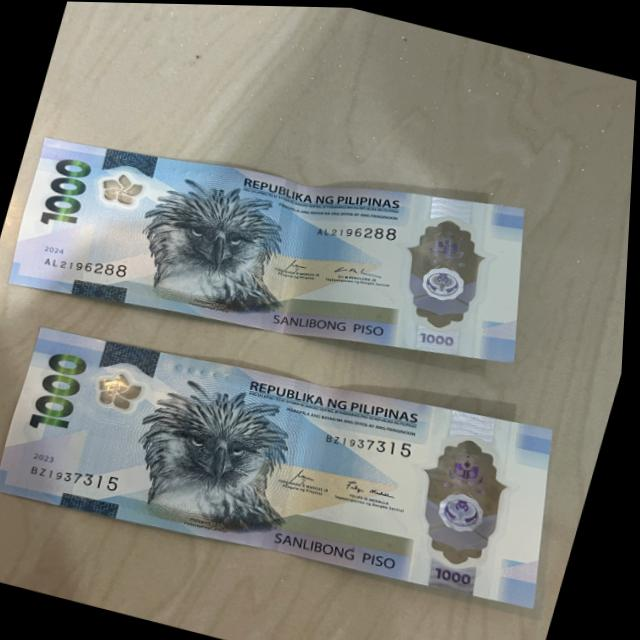clear_window: (405, 421, 534, 579), (392, 194, 513, 337)
eagle: (115, 367, 324, 538), (125, 164, 320, 328)
sampaguita: (95, 363, 149, 424), (97, 168, 152, 215)
serial_number: (31, 239, 148, 290), (18, 453, 132, 499), (306, 205, 411, 254)
